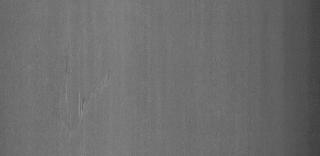silk spot: (52, 71, 120, 140)
